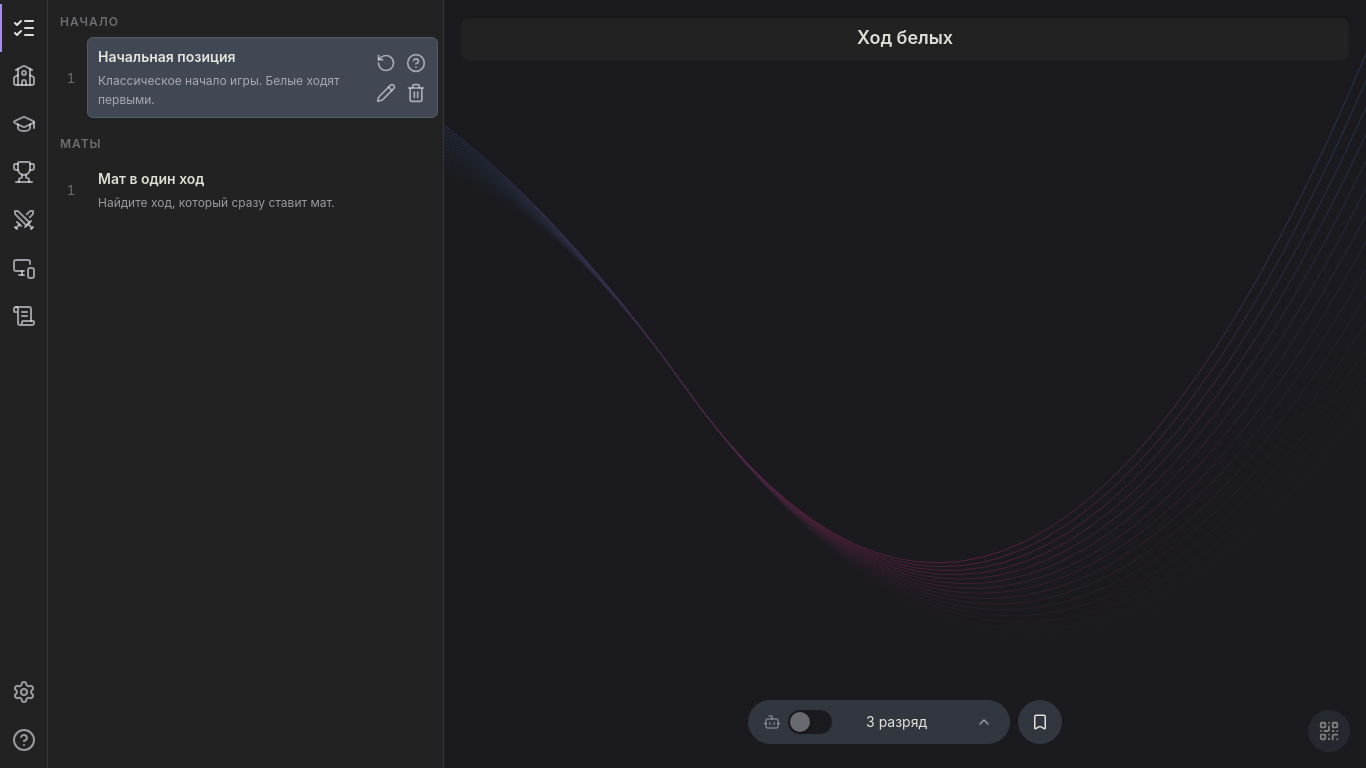
Scenario: App › deletes a situation after confirmation
This screenshot has width=1366, height=768.
Expected: the button "Начальная позиция" is shown, [87,37,438,118]
Click the button named "Удалить: Начальная позиция" at [416, 93], box [402,79,430,107]
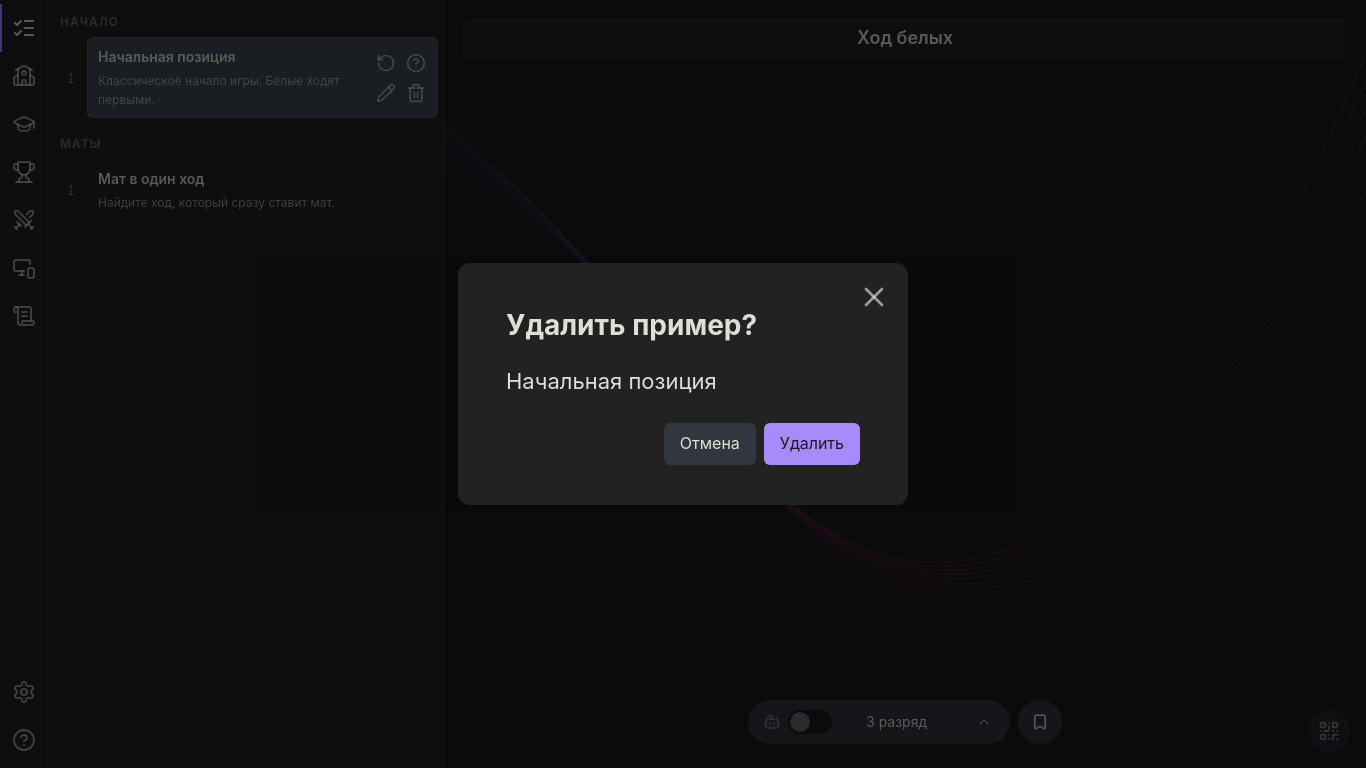
Now the dialog shows "Удалить пример?", box [506,308,757,342]
Now the dialog shows "Начальная позиция", box [506,368,717,394]
Click the button "Удалить" at [812, 444], box [764,423,860,465]
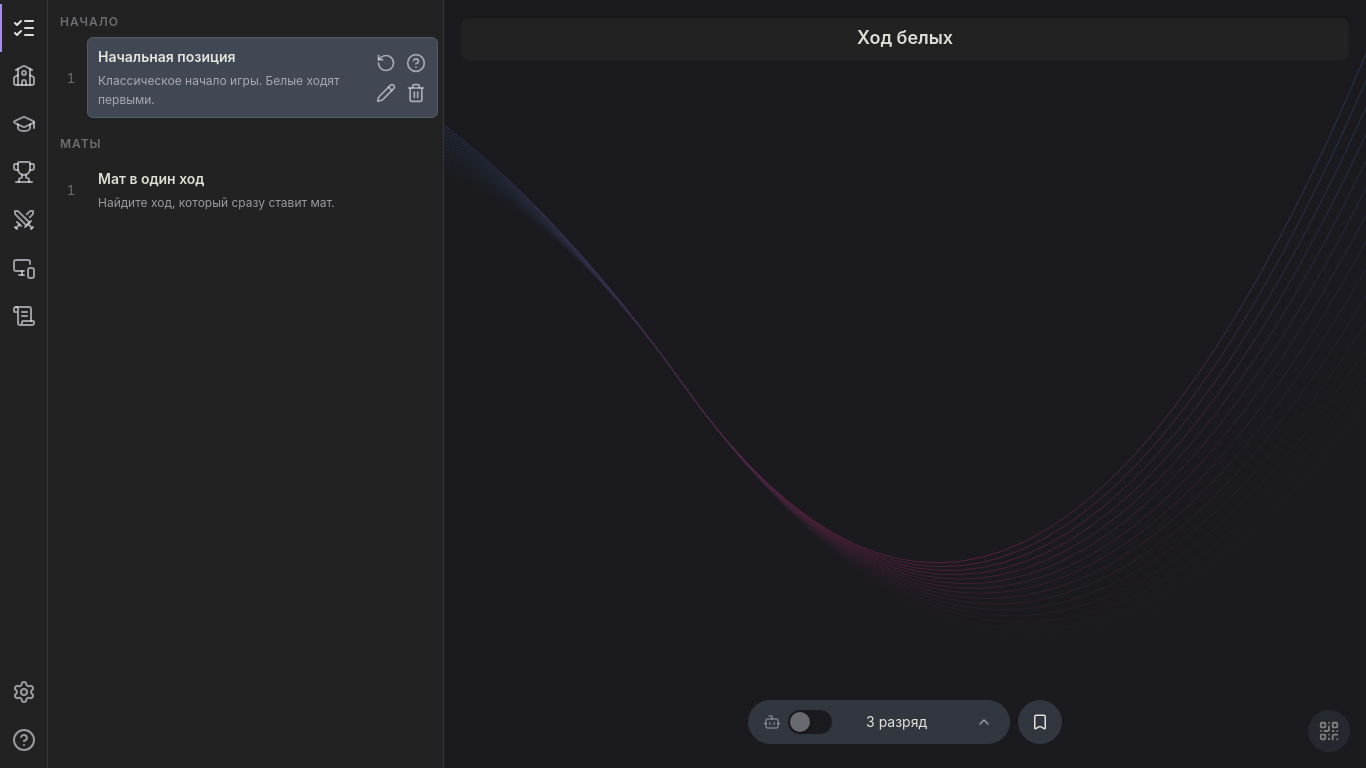
Now the dialog is gone
